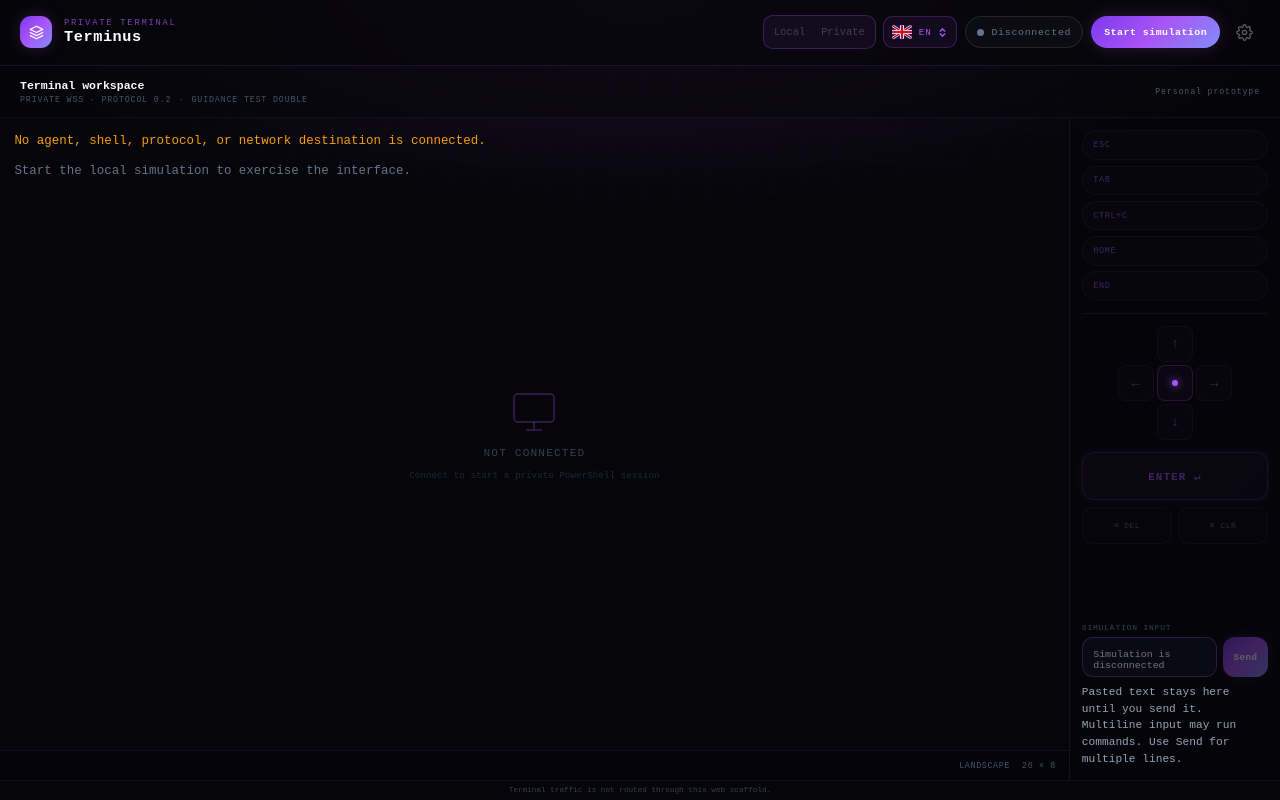
preserves genuine server session-open guidance
Click the button "Start simulation": (1156, 32) [1091,16,1220,48]
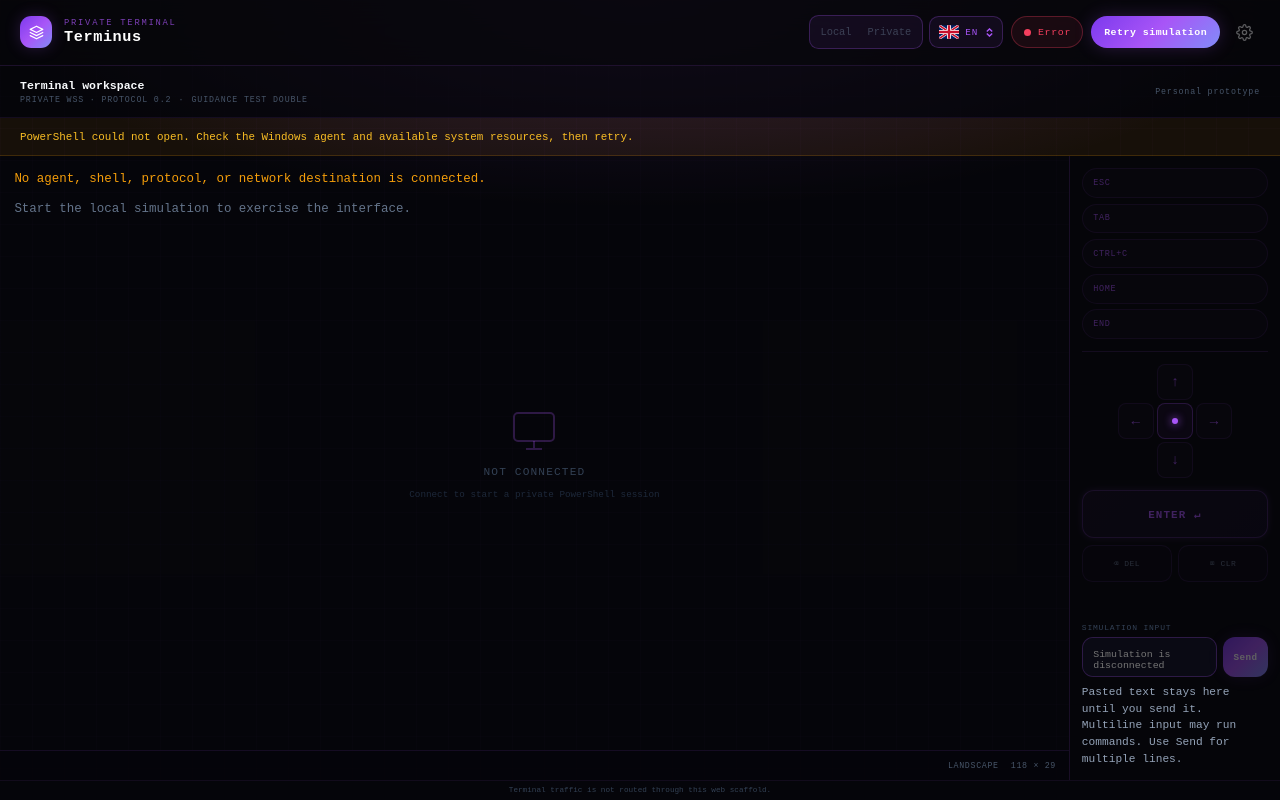
Result: the 2nd message shows "PowerShell could not open." at [20,131,634,143]
